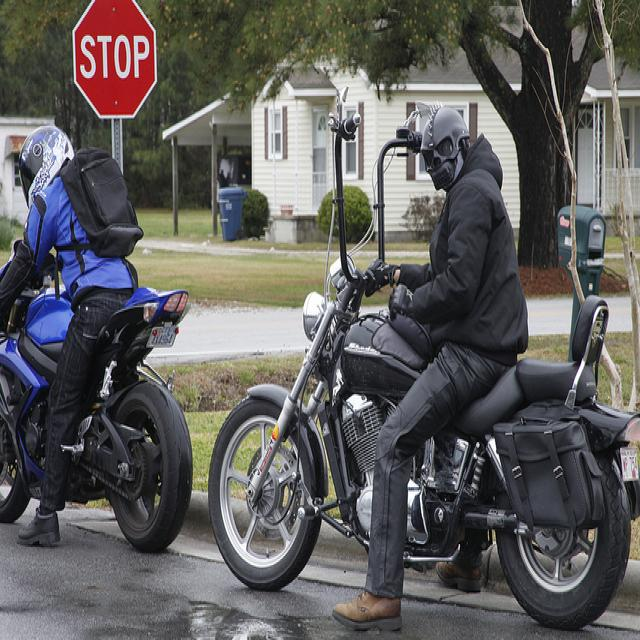motor: (209, 101, 638, 623), (0, 236, 194, 551)
